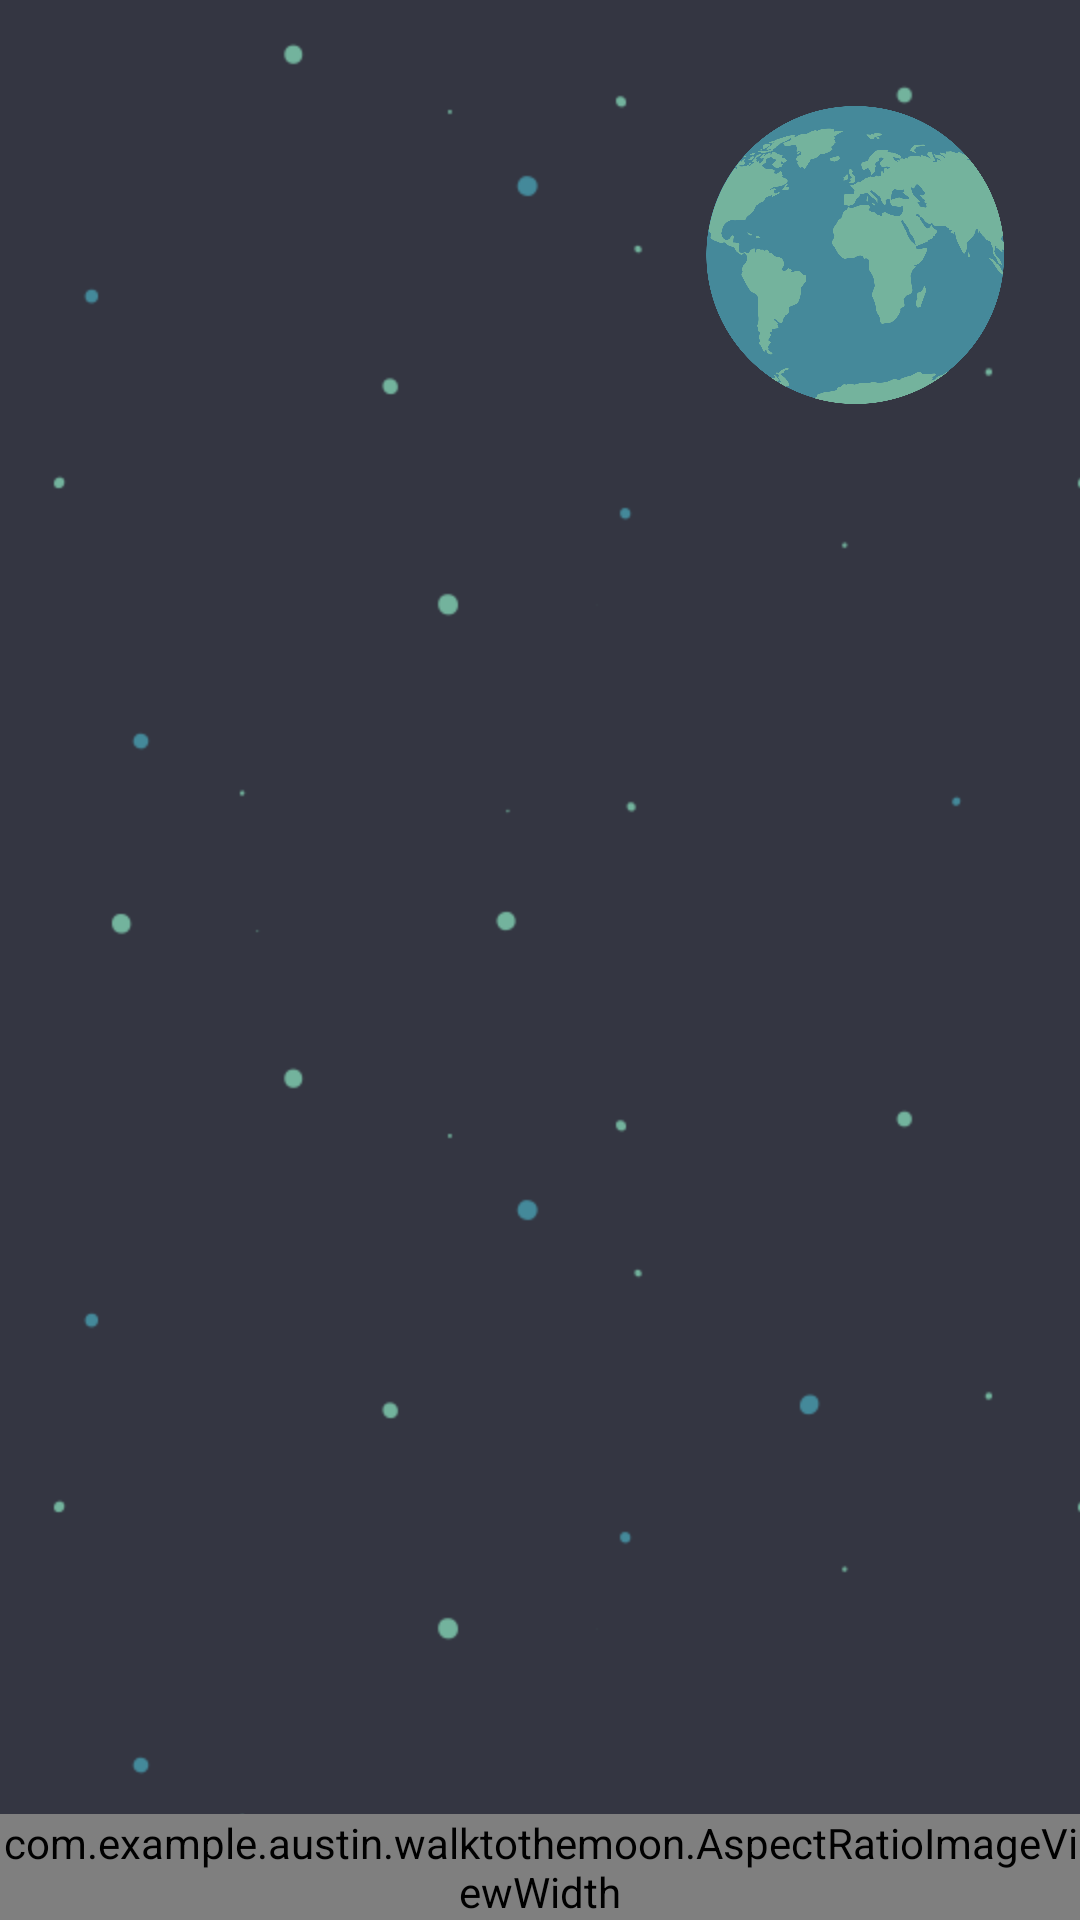

Point at icon controls on the screen. Image size 1080x1920, points as point (x, y).
earth: point (855, 255)
